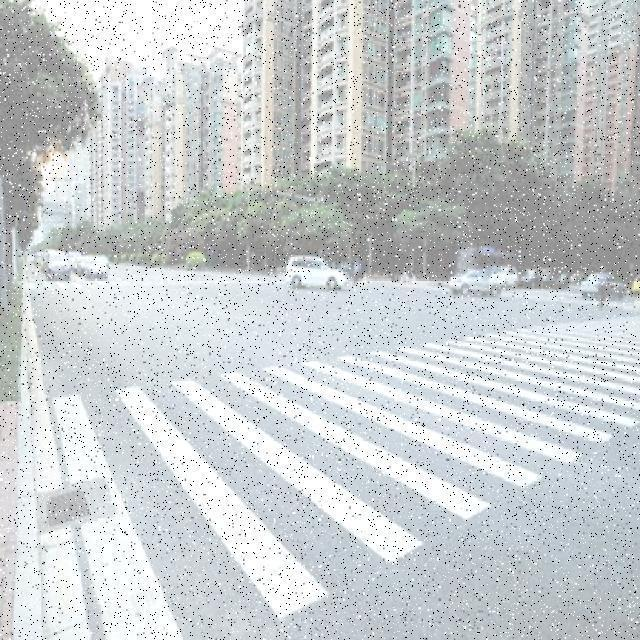crosswalk: (55, 313, 640, 638)
